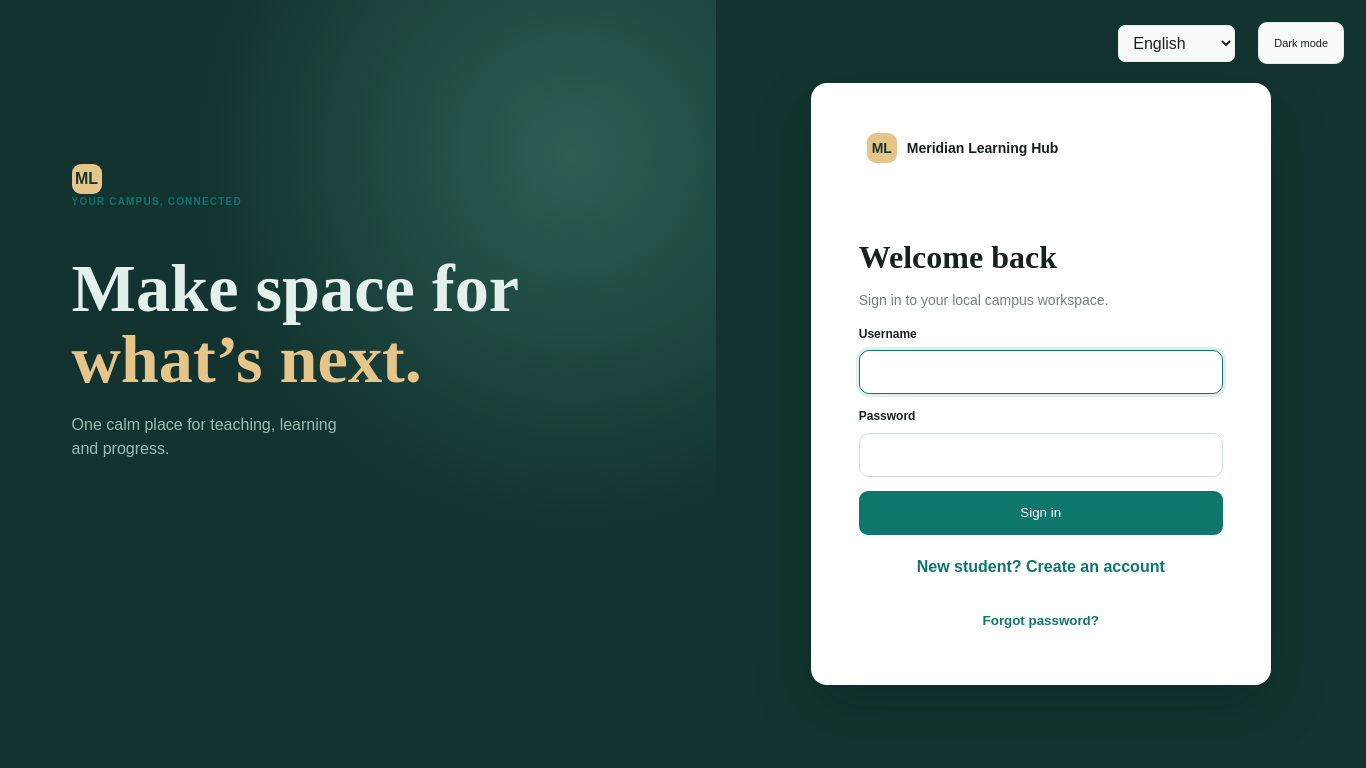
shows partial sync status when one student data request fails
The width and height of the screenshot is (1366, 768).
Check: the heading "Welcome back" is shown, box [859,240,1057,276]
Type "student" into the field labelled "Username" at (1041, 372), box [859,350,1223,394]
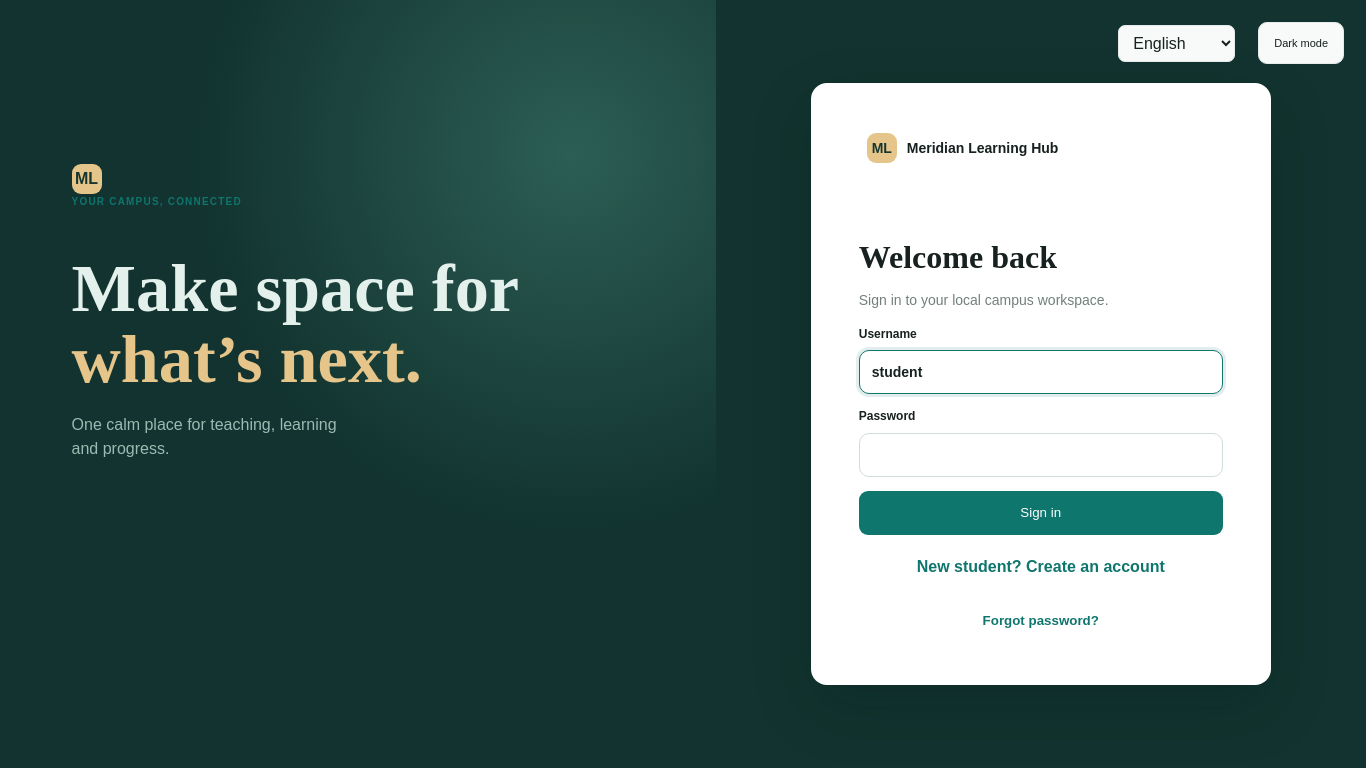
Type "Student123!" into the password field labelled "Password" at (1041, 454), box [859,432,1223,476]
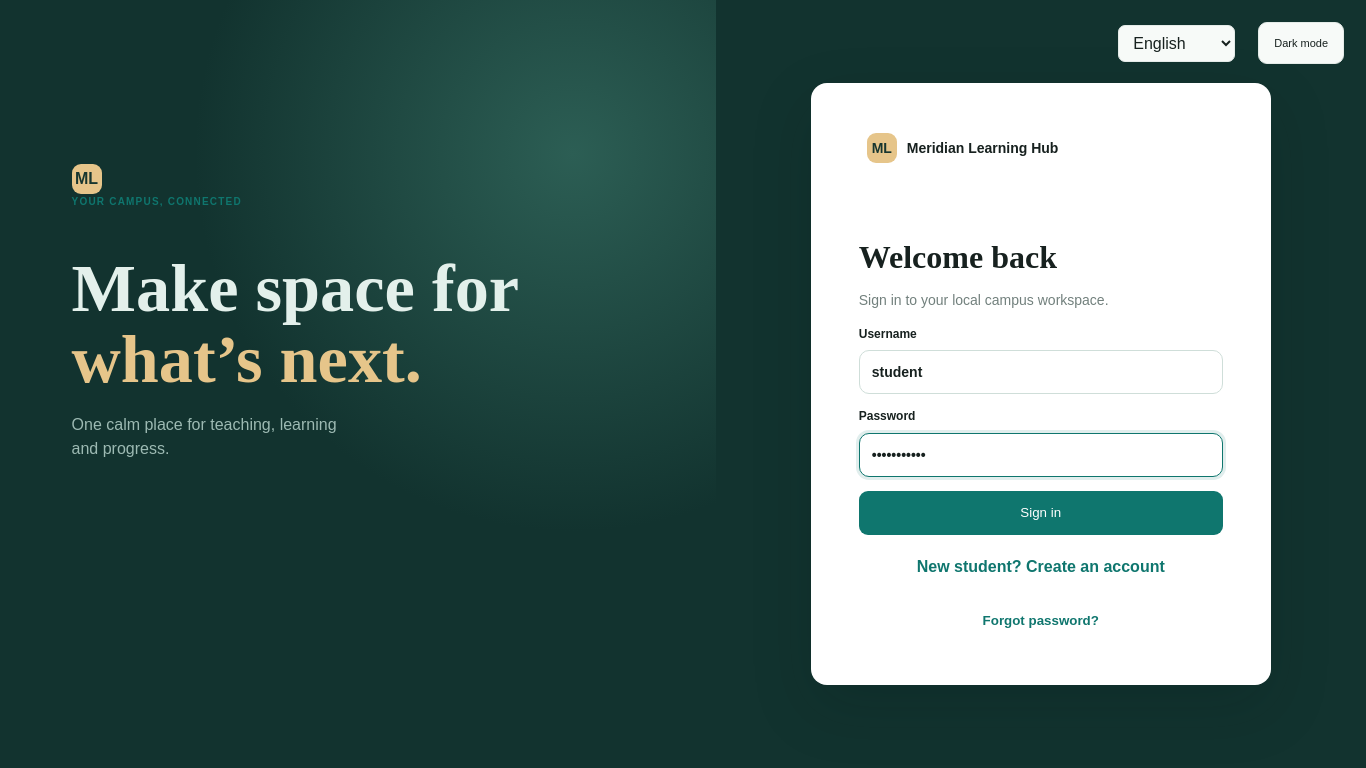
Click the button "Sign in" at (1041, 512), box [859,490,1223,534]
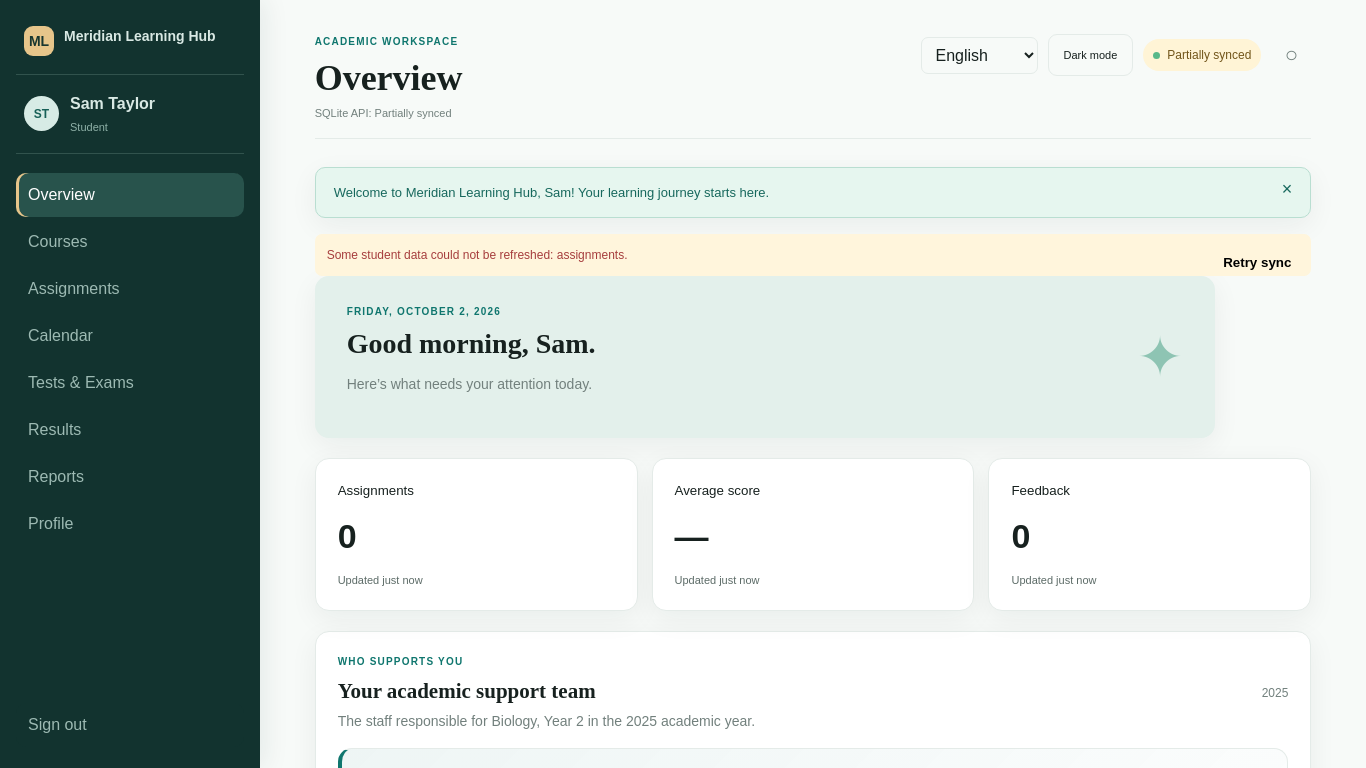
Check: the heading "Good morning, Sam." is shown, box [347,328,596,360]
Check: the text "Partially synced" is shown, box [1143,39,1261,71]
Check: the message "Some student data could not be refreshed: assignments. Retry sync" is shown, box [315,234,1311,276]
